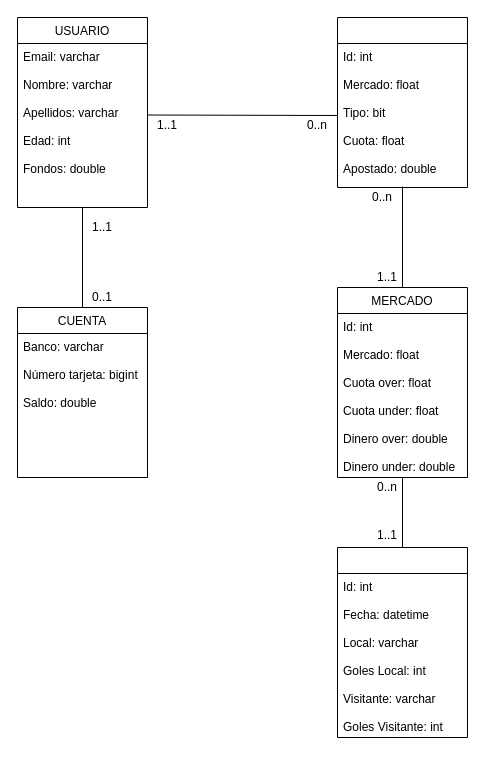
Image size: 485x758. Some labels were removed from this diagram. Each missing label, with the box of its shape:
APUESTA: (336, 16, 468, 188)
EVENTO: (336, 546, 468, 738)
